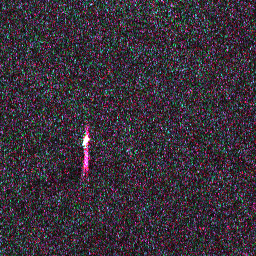ship: (81, 133, 91, 147)
